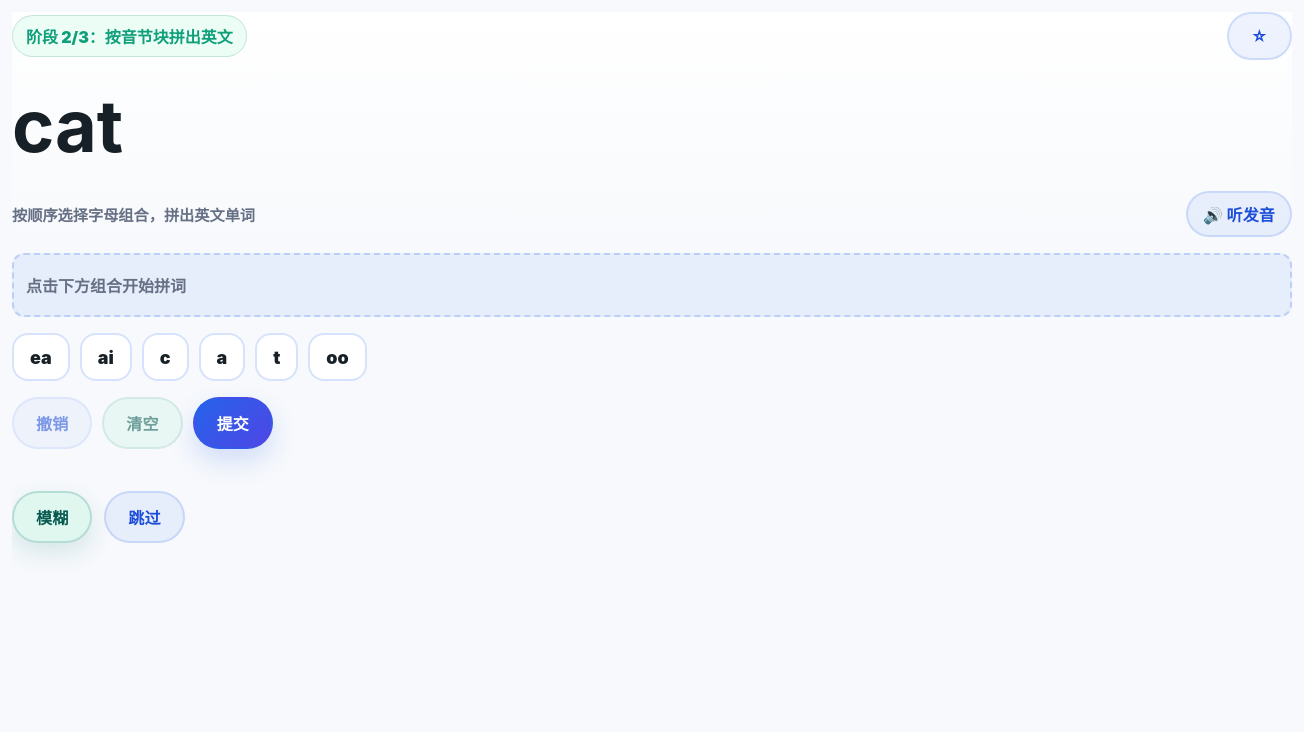
QuestionPanel › builds spelling answers from chunk buttons without text inputs
What coordinates should you click on to do the following:
click the button "c"
I would click on:
 (165, 357)
Its box is [142, 333, 188, 381].
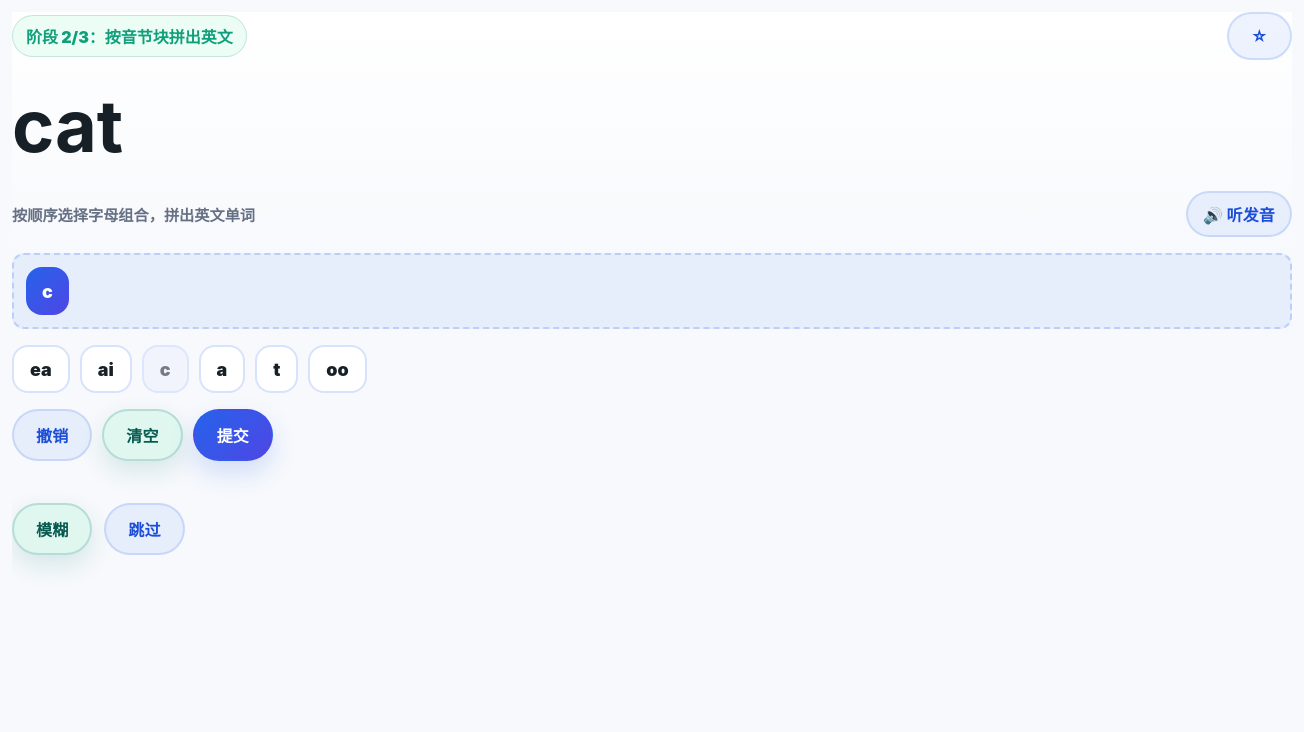
What coordinates should you click on to do the following:
click the button "a"
I would click on:
 (222, 369)
Its box is [198, 345, 245, 393].
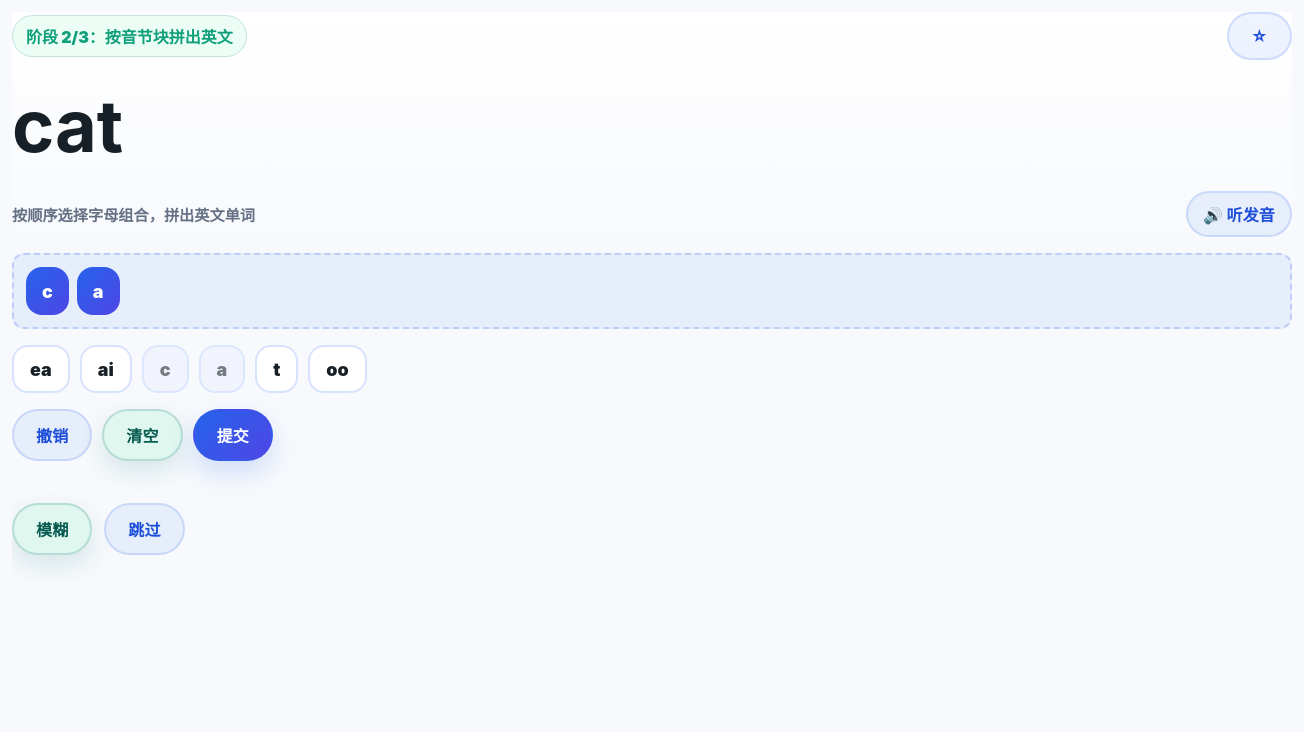
What coordinates should you click on to do the following:
click the button "t"
I would click on:
 (277, 369)
Its box is [255, 345, 298, 393].
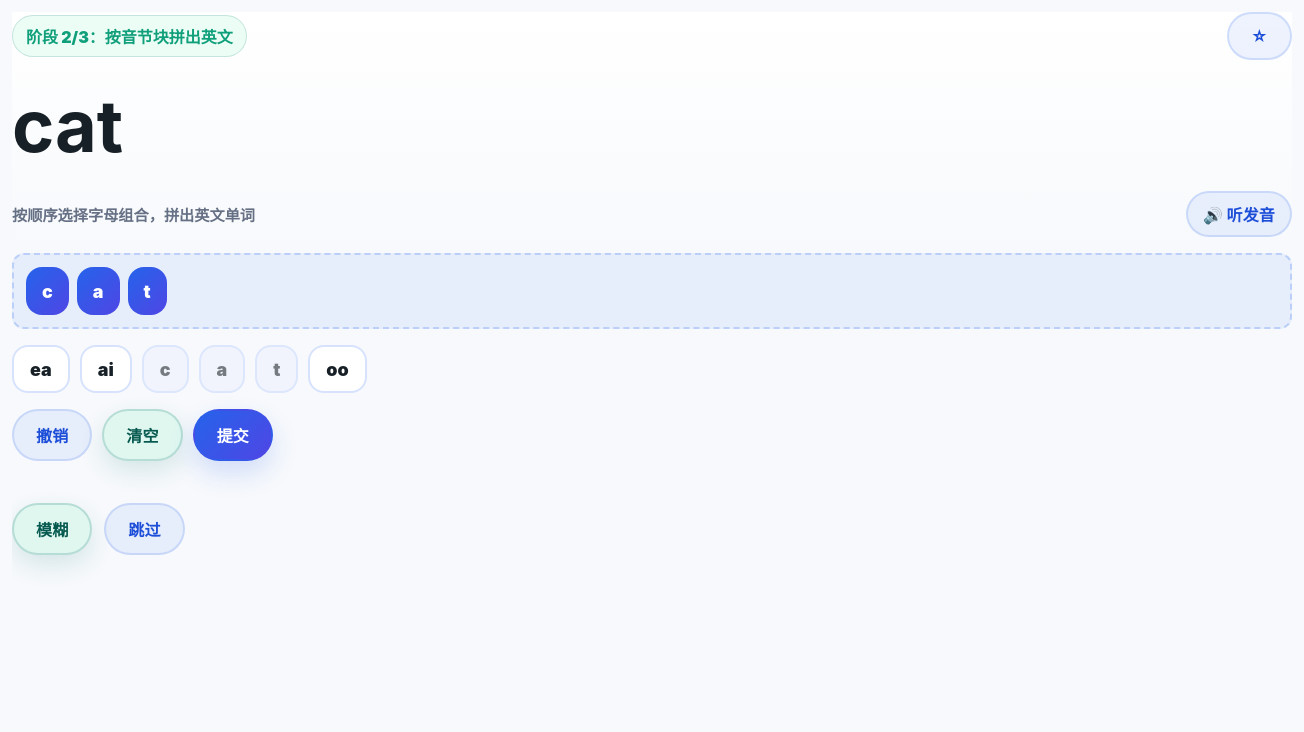
What coordinates should you click on to do the following:
click the button "提交"
I would click on:
 (233, 435)
Its box is [193, 409, 273, 461].
Wait 900 ms
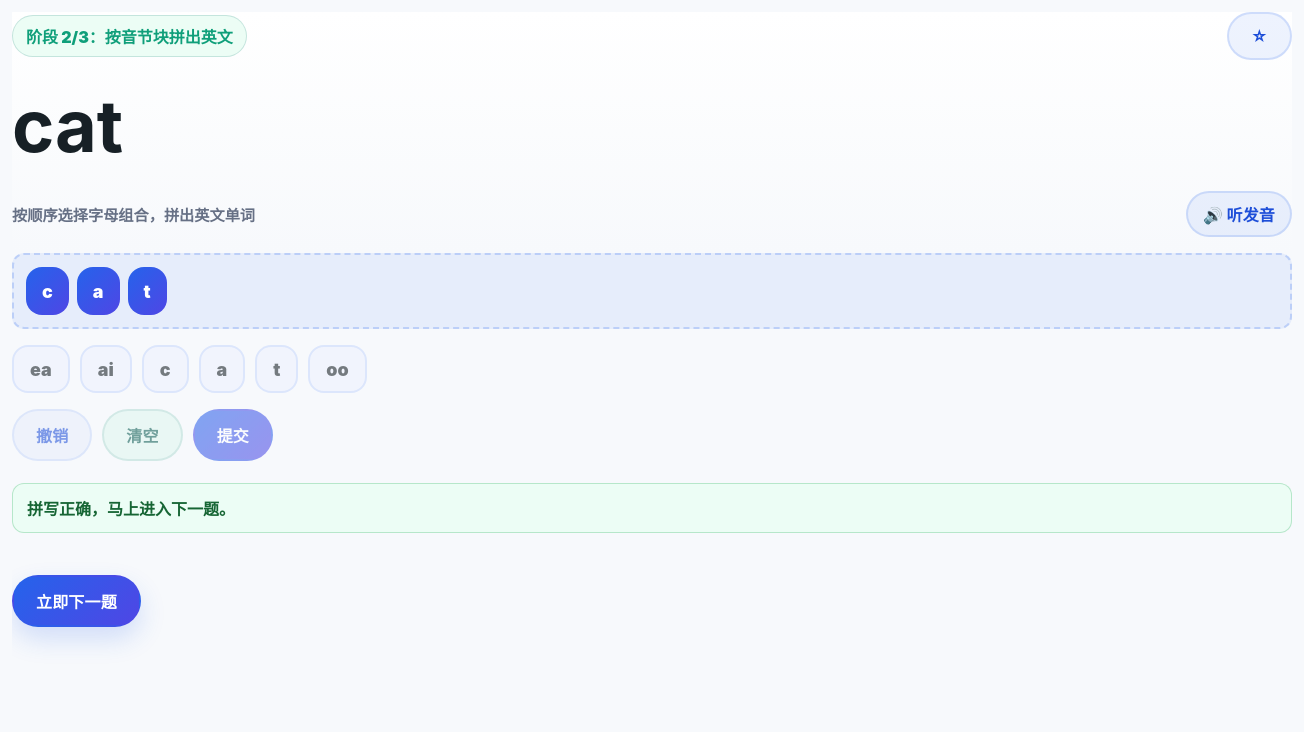
Result: the text "拼写正确，马上进入下一题。" is shown at [12, 483, 1292, 533]
